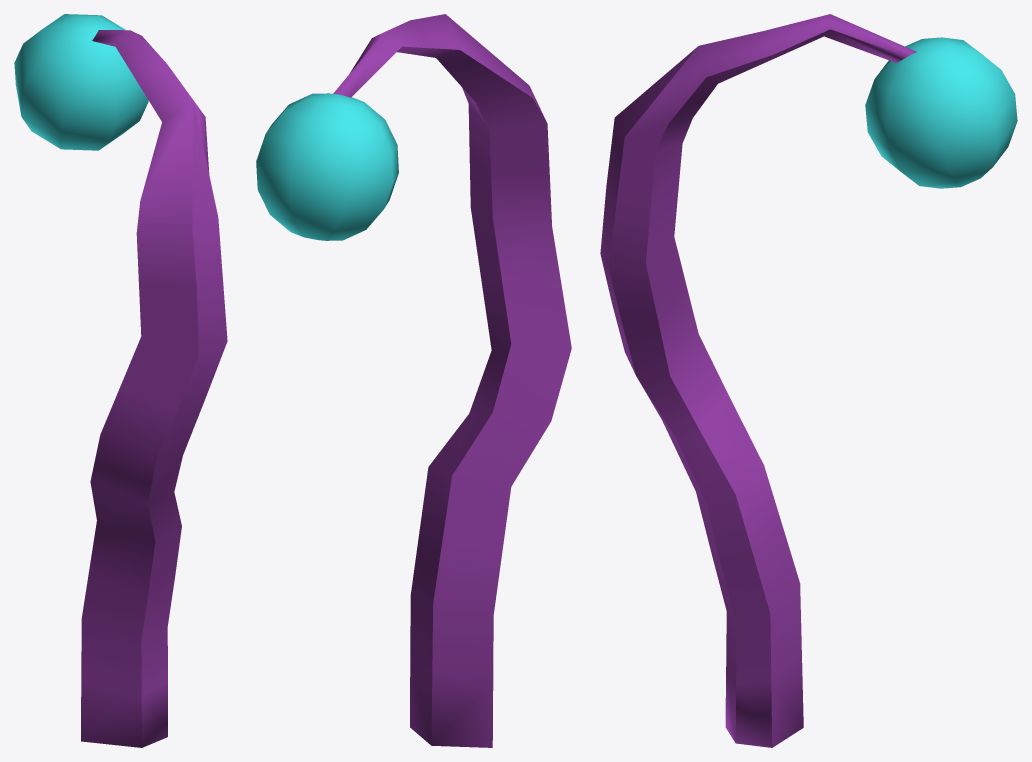
File: Alien_plant03.fbx
3 views of the same model, side by side, from view 1: azimuth 30°, elevation 25°; view 2: azimuth 150°, elevation 25°; view 3: azimuth 270°, elevation 25° (orthographic). The views are drawn at different scales.
Parts seen in each view (by area): view 1: herbe_10; view 2: herbe_10; view 3: herbe_10.
Boxes of the visible parts, x1,y1,x2,y2 form: herbe_10: [14, 14, 227, 747]; herbe_10: [256, 14, 571, 747]; herbe_10: [600, 14, 1017, 747].
Size of the model in its own units: 0.6143 by 2.38 by 1.23.
